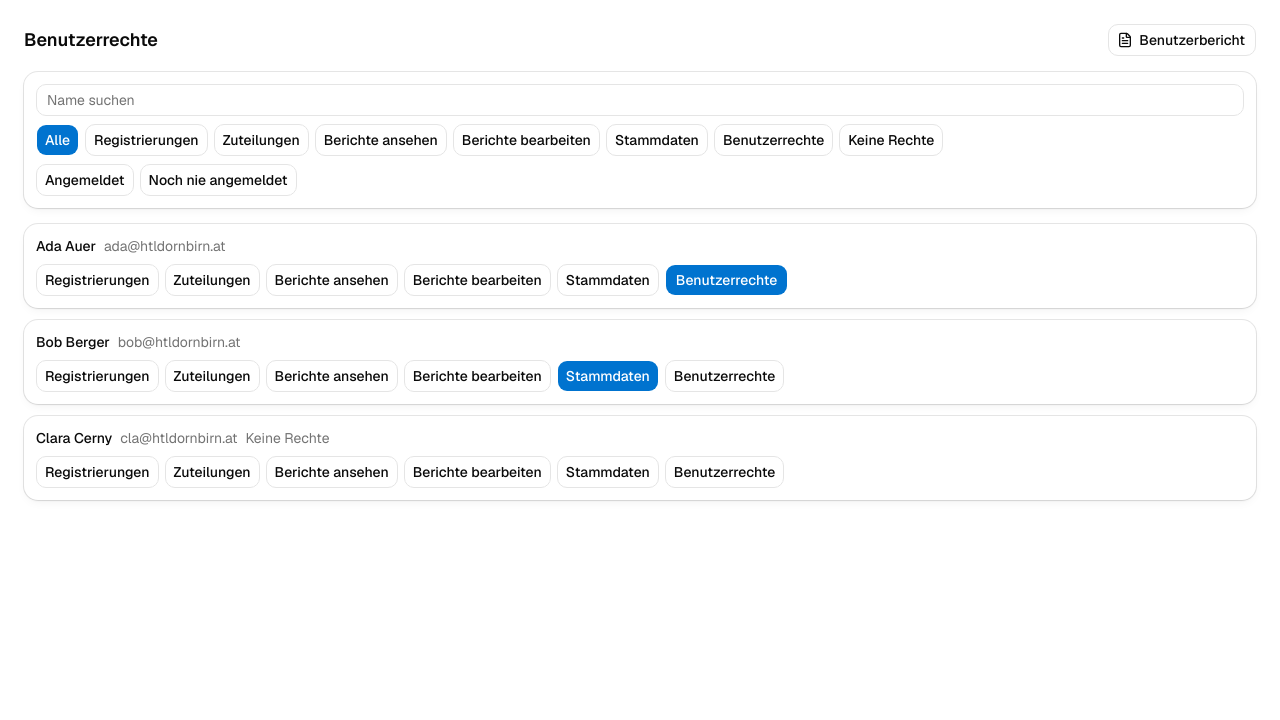
Test: UserPermissionsView — filtering › says so when the filter matches nobody
The width and height of the screenshot is (1280, 720).
In the field with placeholder "Name suchen": (640, 100) left=36, top=84, right=1244, bottom=116, type "zzz"
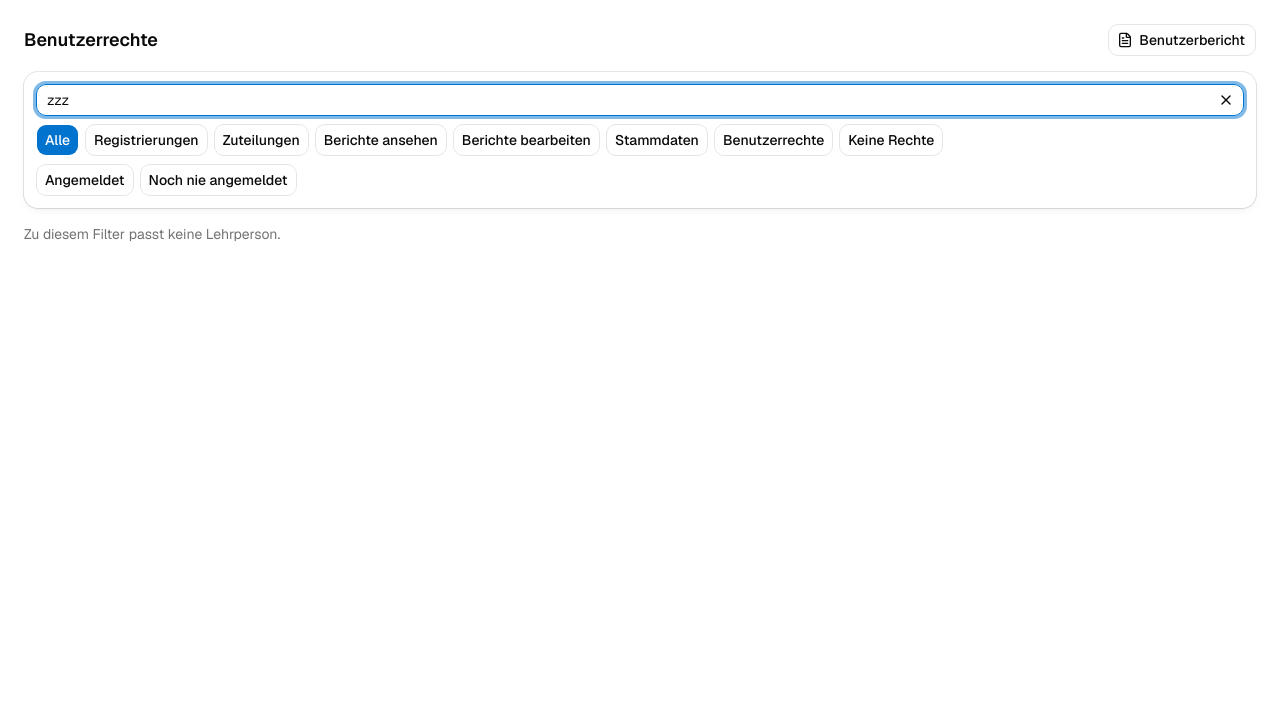
Check: the text "Zu diesem Filter passt keine Lehrperson." is shown, box left=24, top=225, right=280, bottom=243
